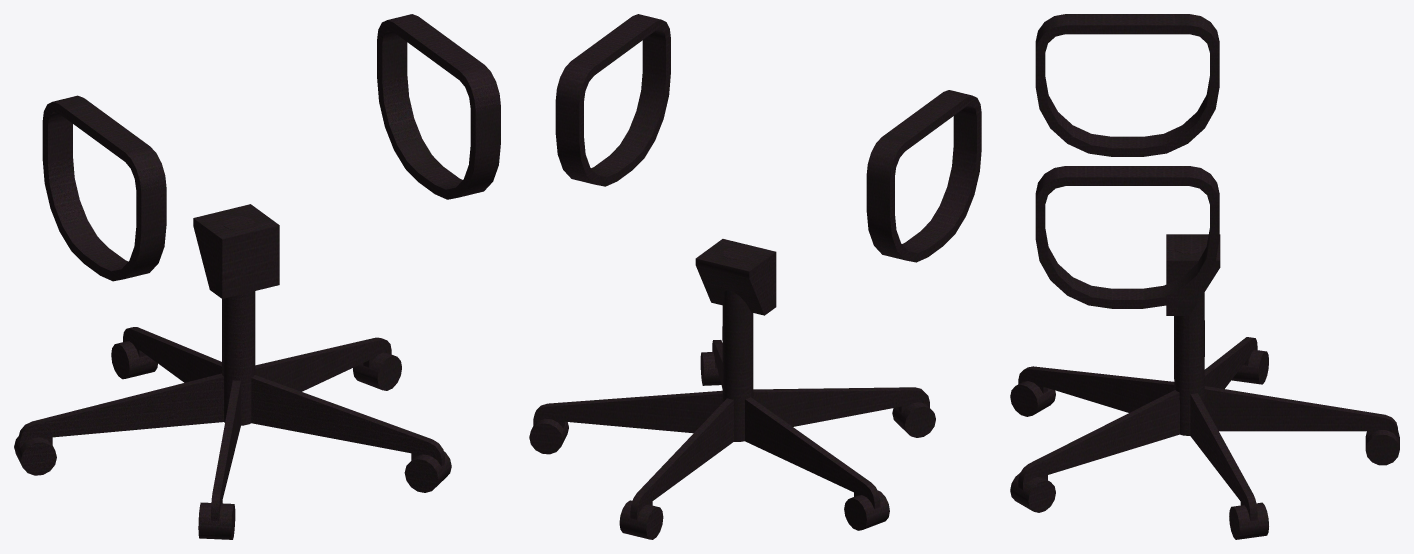
3 views of the same model, side by side, from view 1: azimuth 30°, elevation 25°; view 2: azimuth 150°, elevation 25°; view 3: azimuth 270°, elevation 25° (orthographic). The views are drawn at different scales.
Bounding box in the file's own units: 0.6733 × 0.6583 × 0.6403.
1 material, 1 textured.
